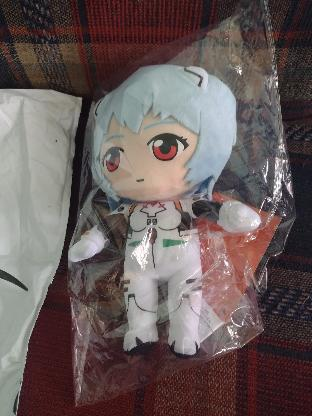rei-plush: (88, 60, 260, 360)
